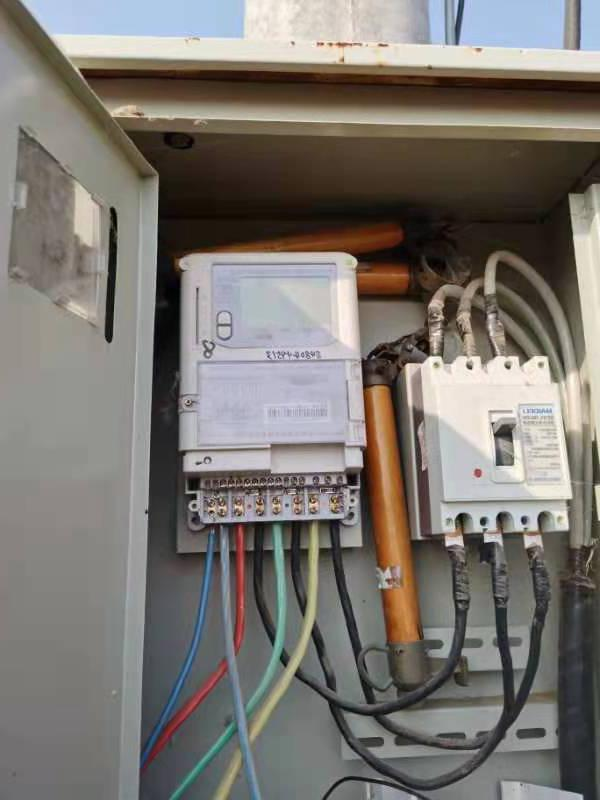digital: (178, 252, 364, 446)
